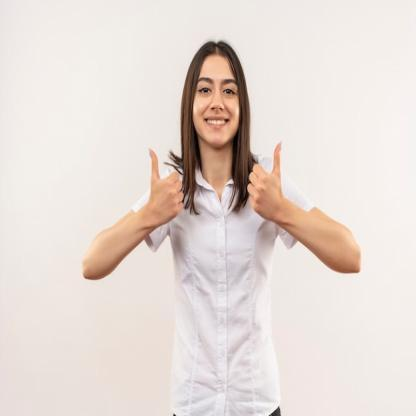thumb_up: (247, 138, 288, 228), (144, 142, 186, 228)
